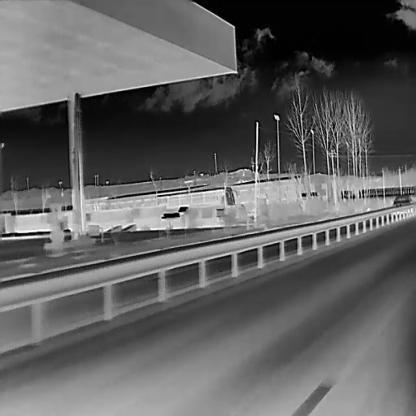bus: (153, 184, 238, 208)
car: (390, 192, 414, 214)
